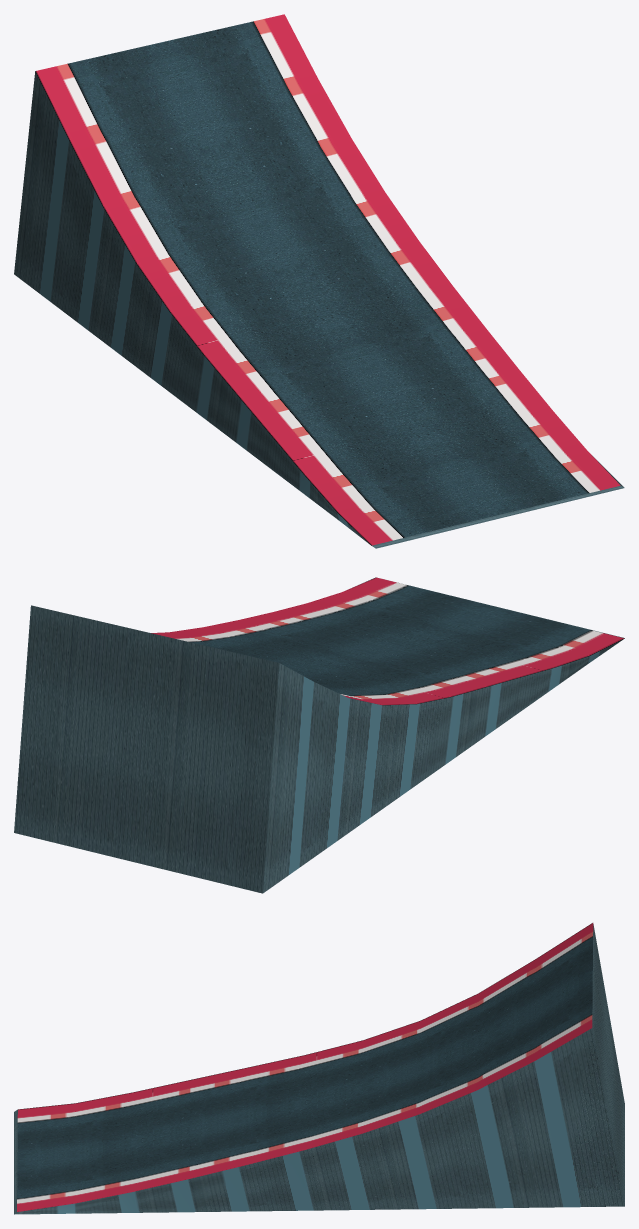
The model's file is Ramp_stunt.FBX.
3 renders of one model, top to bottom at view 1: azimuth 30°, elevation 25°; view 2: azimuth 150°, elevation 25°; view 3: azimuth 270°, elevation 25°, orthographic. The views are drawn at different scales.
Visible parts, largest first — view 1: Box008; view 2: Box008; view 3: Box008.
Boxes of the visible parts, left/top/right/bottom form: Box008: left=14, top=14, right=624, bottom=548; Box008: left=14, top=577, right=624, bottom=893; Box008: left=14, top=923, right=624, bottom=1214.
Size of the model in its own units: 163 by 138 by 402.
Materials: 1 (1 with a texture image).
